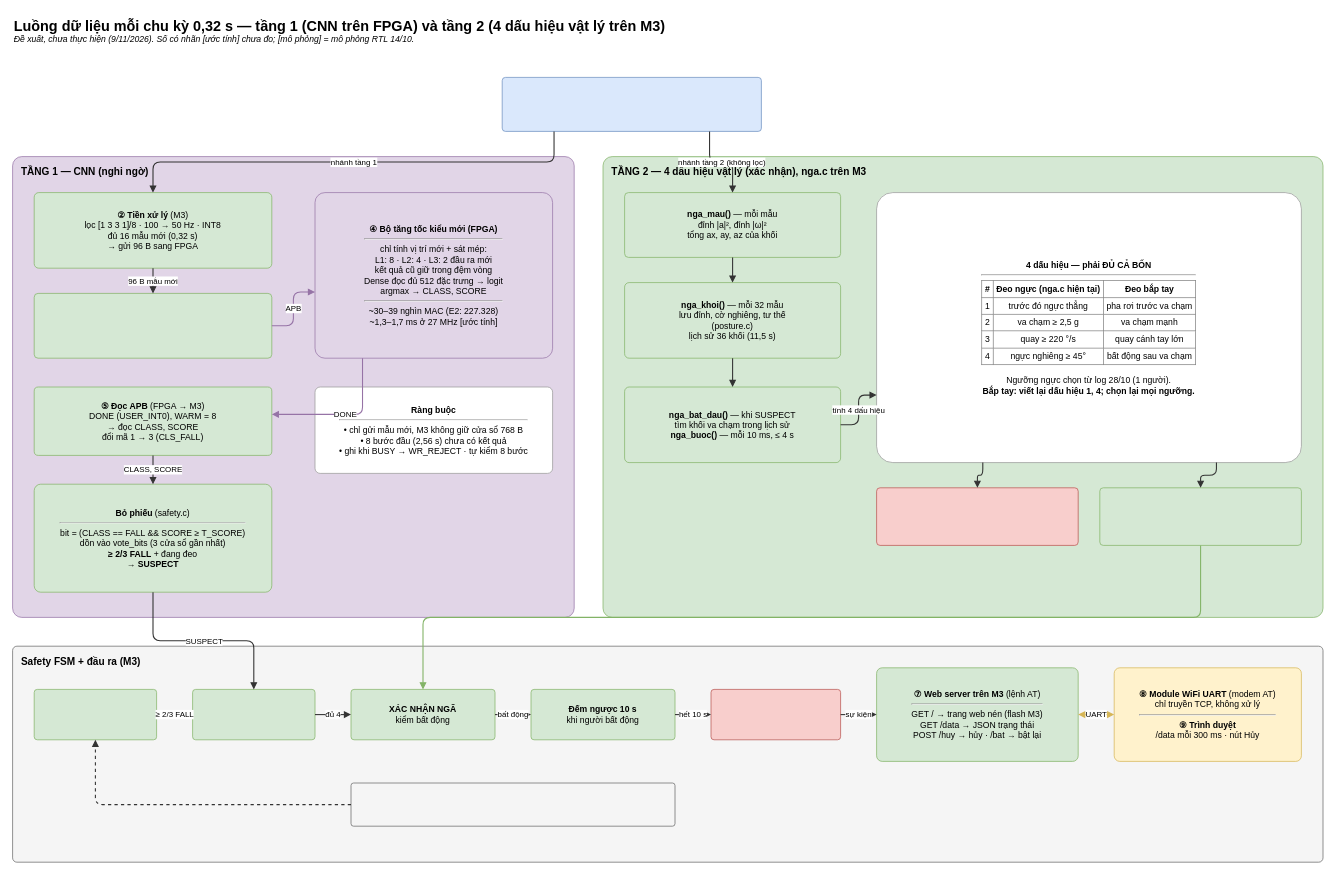
Image size: 1336x875. Some labels were removed from this diagram. Each missing label, with the centre of its shape:
BÁO ĐỘNG còi liên tục: the point at 775,714
Hủy : nút trên thiết bị hoặc nút Hủy trên web (H) → về MONITOR: the point at 512,804
MONITOR: the point at 95,714
SUSPECT bíp 0,4 s/giây → gọi nga_bat_dau(): the point at 253,714
Thiếu dấu hiệu / quá 4 s → BỎ (safety_bo_nghi), về MONITOR còi, web không thấy: the point at 977,516
Đủ 4 dấu hiệu → XÁC NHẬN NGÃ: the point at 1200,516
① Mẫu thô 100 Hz (M3) ax ay az gx gy gz theo trục người, đã trừ độ lệch: the point at 631,104
③ Ghi APB (M3 → FPGA) chờ BUSY = 0 · ghi 96 B vào NEW_DATA ghi CTRL.START: the point at 152,325
